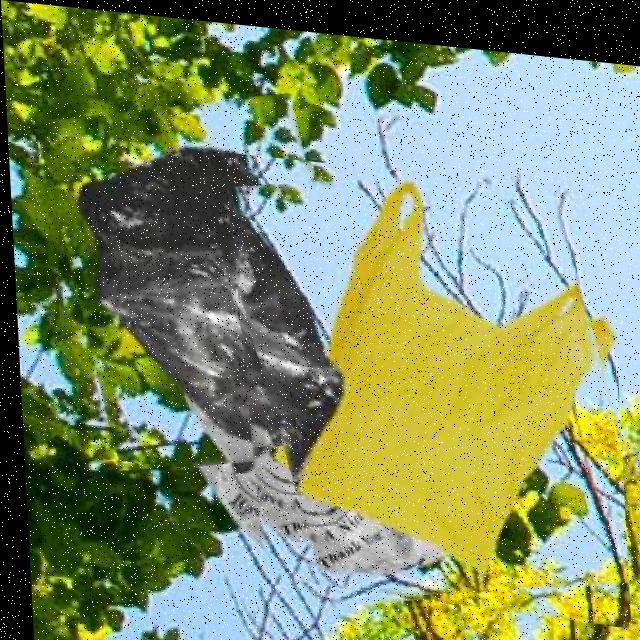plasticcover: (221, 148, 624, 616), (45, 78, 356, 479)
